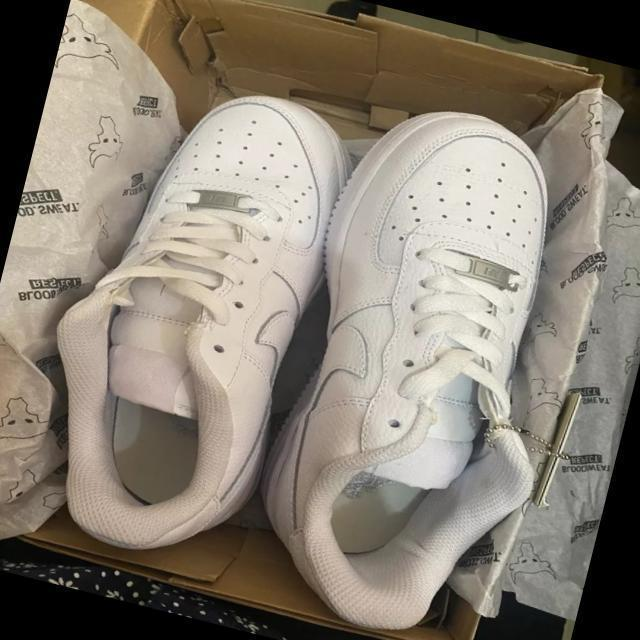nike fake air force: (234, 85, 617, 640), (0, 55, 366, 619)
